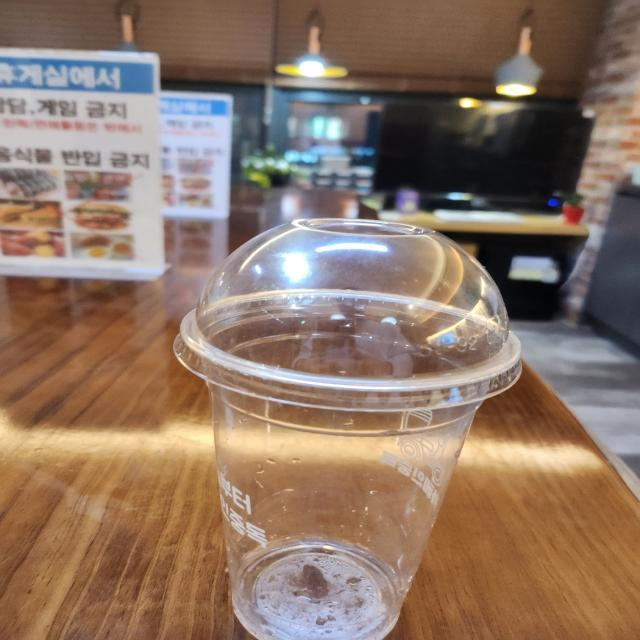plastic_cup_lid: (177, 198, 536, 416)
